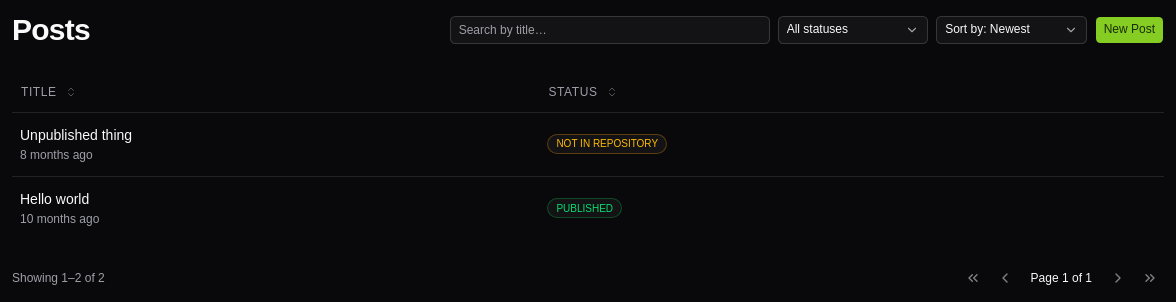
Test case: the page's controls › names the fact each group of the filter filters on
Click the dropdown named "Filter by status".
click(853, 30)  # box 778,16 -> 928,44
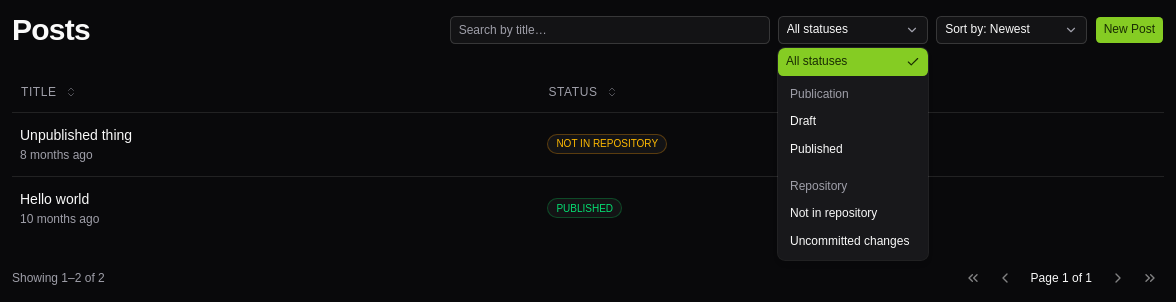
Expected: the text "Publication" is shown, 790,87 -> 849,101
Expected: the text "Repository" is shown, 790,179 -> 847,193
